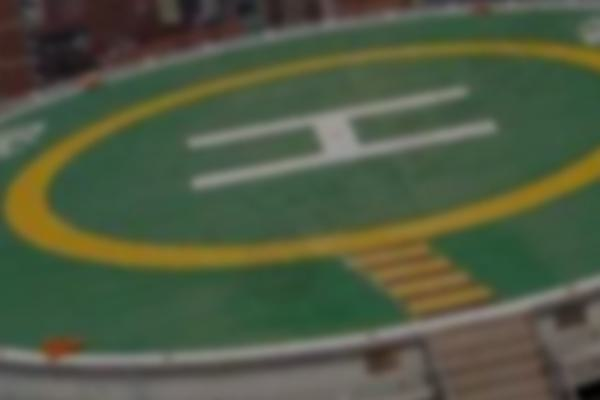Apron: (5, 36, 598, 276)
